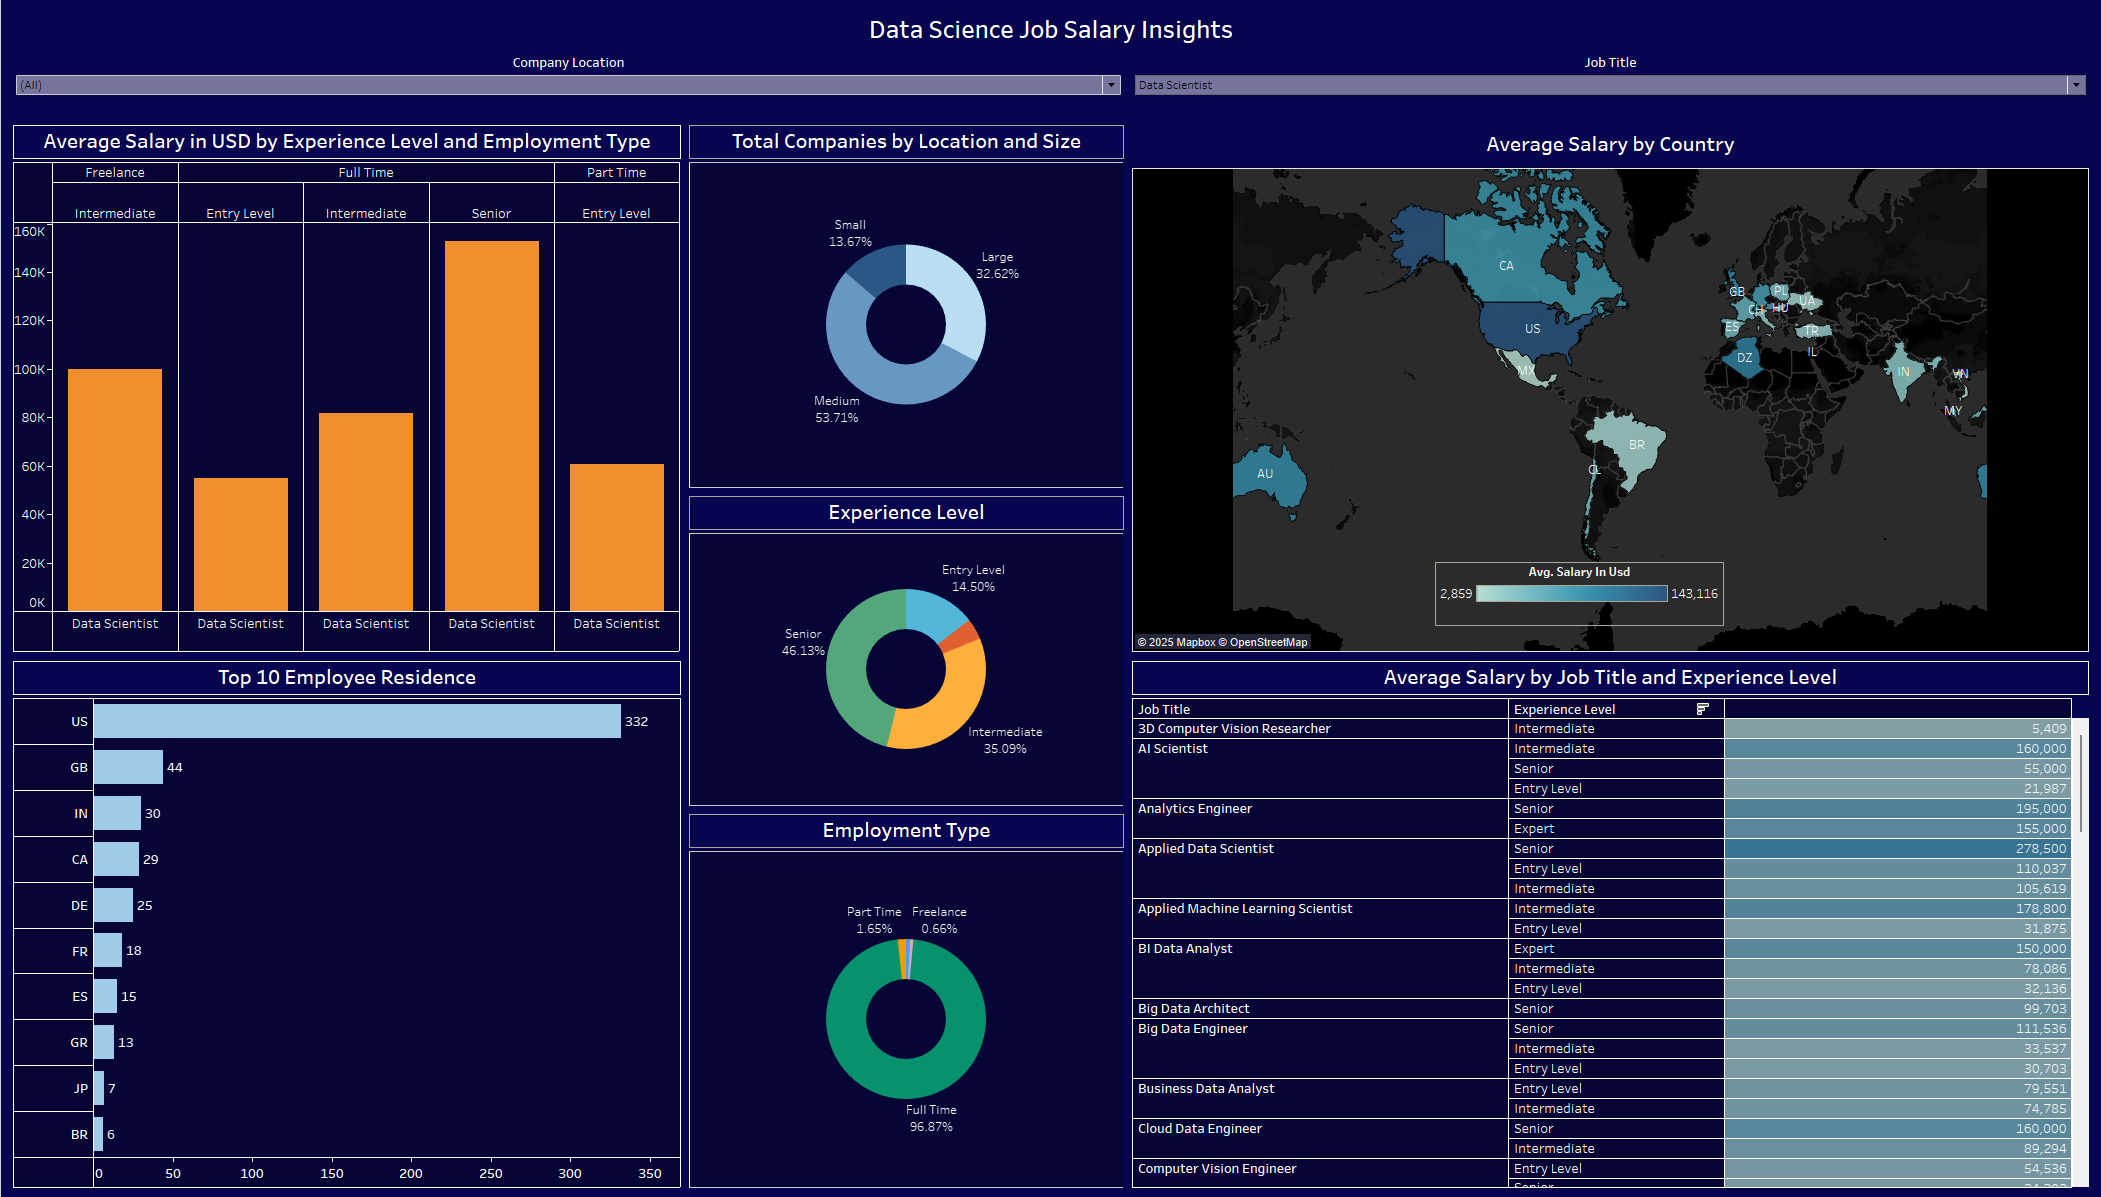

What the dashboard file says about the page in this screenshot:
{"tool":"tableau","page":{"name":"Data Science Jobs salaries dashboard","canvas":[2100,1200],"ordinal":0},"visuals":[{"type":"title","box":[8,8,2084,41]},{"type":"filter","title":"Average Salary in USD by Experience Level and Employment Type","param":"[federated.1nnimtt01rgf3m14qzr4z0kd3i3m].[none:company_location:nk]","box":[8,49,1119,53]},{"type":"filter","title":"Average Salary in USD by Experience Level and Employment Type","param":"[federated.1nnimtt01rgf3m14qzr4z0kd3i3m].[none:job_title:nk]","box":[1127,49,965,72.4]},{"type":"worksheet","title":"Average Salary in USD by Experience Level and Employment Type","mark":"Automatic","rows":["salary_in_usd"],"cols":["employment_type","experience_level","job_title"],"box":[8,121.4,676,535.3]},{"type":"worksheet","title":"Total Companies by Location and Size","mark":"Pie","rows":["Calculation_3250191614244179969","Calculation_3250191614244179969"],"box":[684,121.4,443,370.7]},{"type":"worksheet","title":"Average Salary by Country","mark":"Multipolygon","box":[1127,121.4,965,535.3]},{"type":"worksheet","title":"Experience Level","mark":"Pie","rows":["Calculation_3250191614244179969","Calculation_3250191614244179969"],"box":[684,492.1,443,318.3]},{"type":"legend","title":"Average Salary by Country","param":"[federated.1nnimtt01rgf3m14qzr4z0kd3i3m].[avg:salary_in_usd:qk]","box":[1434,562,289,64]},{"type":"worksheet","title":"Top 10 Employee Residence","mark":"Automatic","rows":["employee_residence"],"cols":["employee_residence"],"box":[8,656.7,676,535.3]},{"type":"worksheet","title":"Average Salary by Job Title and Experience Level","mark":"Square","rows":["job_title","experience_level"],"box":[1127,656.7,965,535.3]},{"type":"worksheet","title":"Employment Type","mark":"Pie","rows":["Calculation_3250191614244179969","Calculation_3250191614244179969"],"box":[684,810.4,443,381.6]}]}

Visuals, with their boxes in screenshot pixels (x1, y1, x2, y2), scaled from the page's 2100x1200 canvas onto the 2101x1197 screenshot:
title: rect(8, 8, 2093, 49)
"Average Salary in USD by Experience Level and Employment Type" filter: rect(8, 49, 1128, 102)
"Average Salary in USD by Experience Level and Employment Type" filter: rect(1128, 49, 2093, 121)
"Average Salary in USD by Experience Level and Employment Type" worksheet: rect(8, 121, 684, 655)
"Total Companies by Location and Size" worksheet (Pie marks): rect(684, 121, 1128, 491)
"Average Salary by Country" worksheet (Multipolygon marks): rect(1128, 121, 2093, 655)
"Experience Level" worksheet (Pie marks): rect(684, 491, 1128, 808)
"Average Salary by Country" legend: rect(1435, 561, 1724, 624)
"Top 10 Employee Residence" worksheet: rect(8, 655, 684, 1189)
"Average Salary by Job Title and Experience Level" worksheet (Square marks): rect(1128, 655, 2093, 1189)
"Employment Type" worksheet (Pie marks): rect(684, 808, 1128, 1189)
